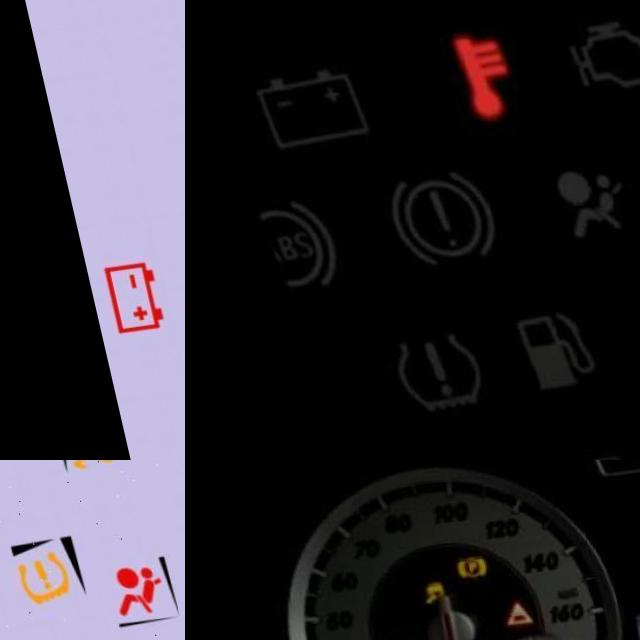Engine cooling system: (411, 11, 535, 144)
Low fuel level: (457, 279, 604, 425)
